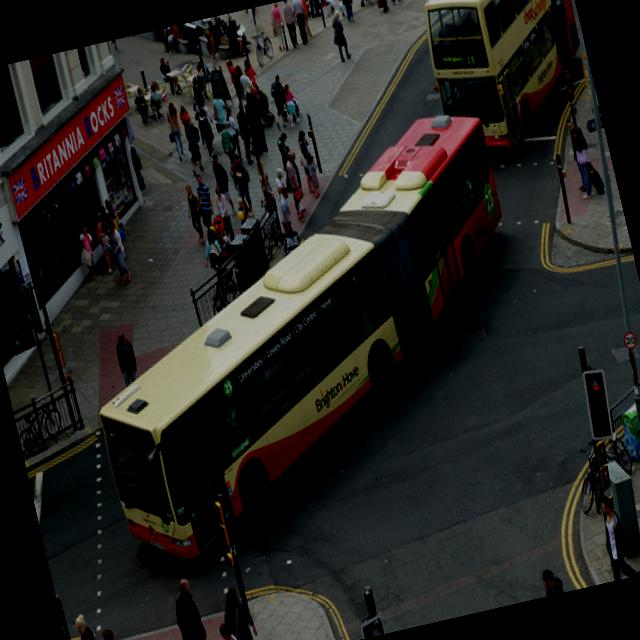Vehicle: (45, 94, 562, 571), (408, 0, 603, 165)
